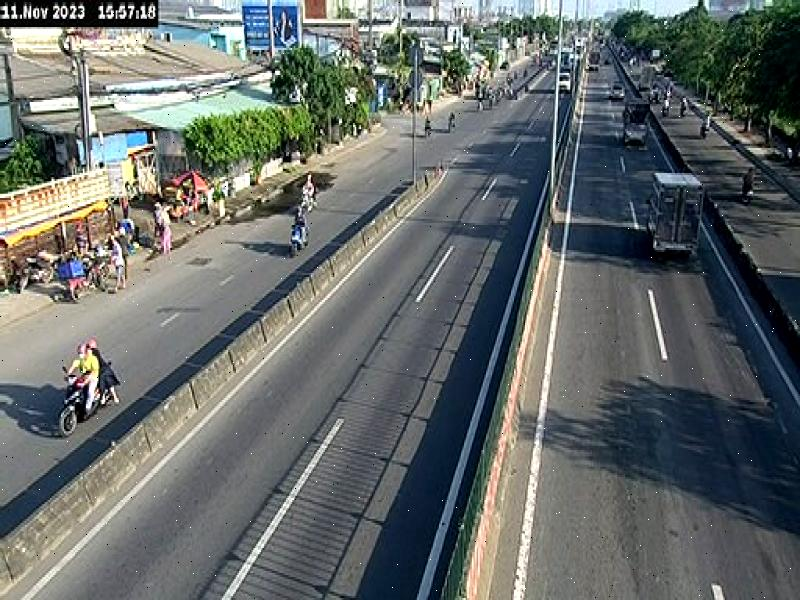bus: (646, 170, 704, 266), (620, 94, 654, 153)
